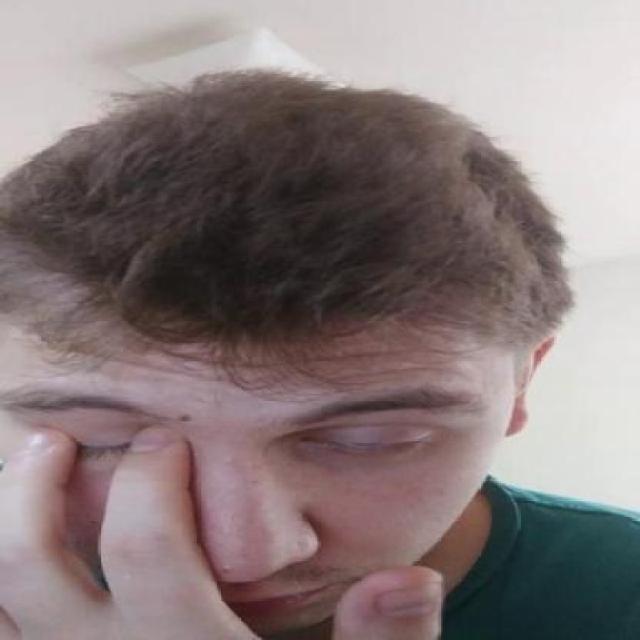drowsy: (301, 425, 437, 464), (72, 428, 132, 464)
